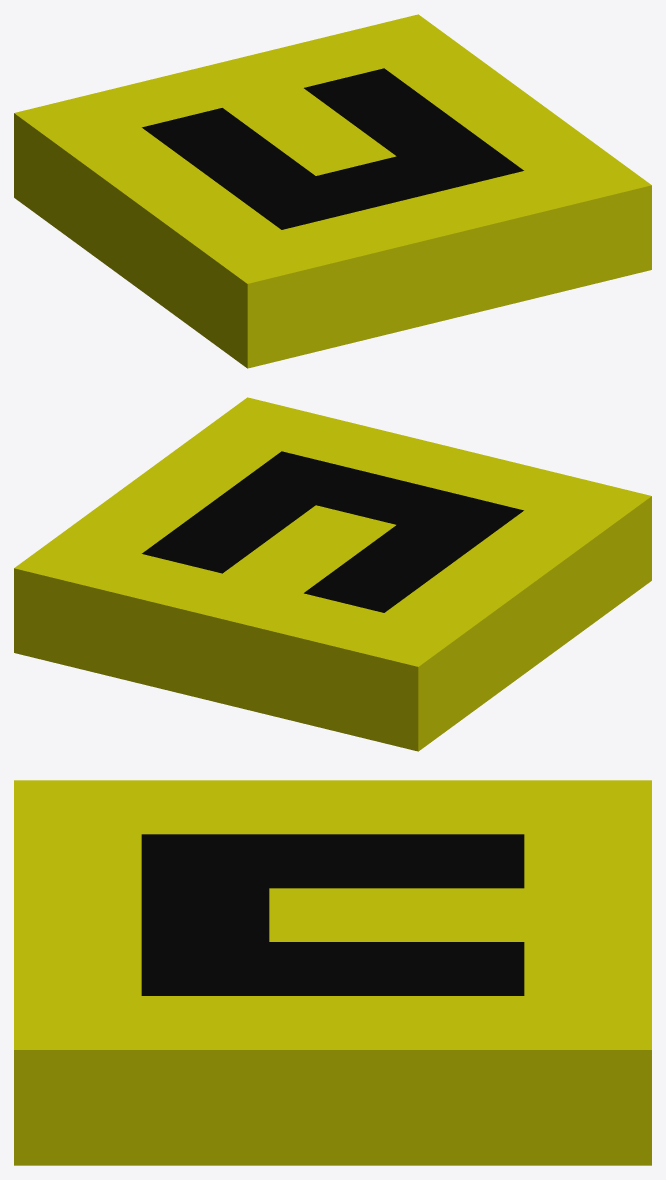
Rendered from coin.obj.
3 renders of one model, top to bottom at view 1: azimuth 30°, elevation 25°; view 2: azimuth 150°, elevation 25°; view 3: azimuth 270°, elevation 25°, orthographic. The views are drawn at different scales.
Bounding box in the file's own units: 5 × 1 × 5.
Materials: 1 (1 with a texture image).
